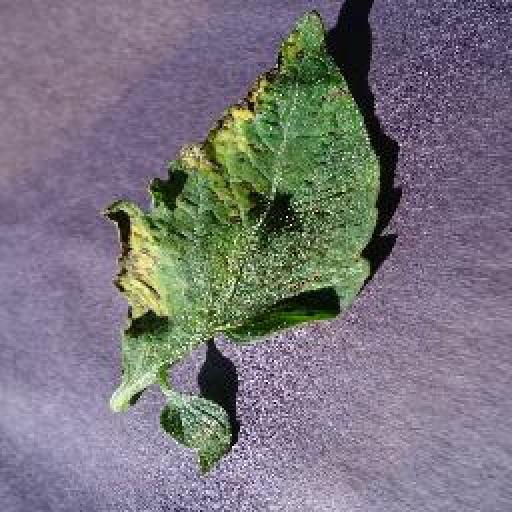Septoria: (102, 10, 384, 350)
